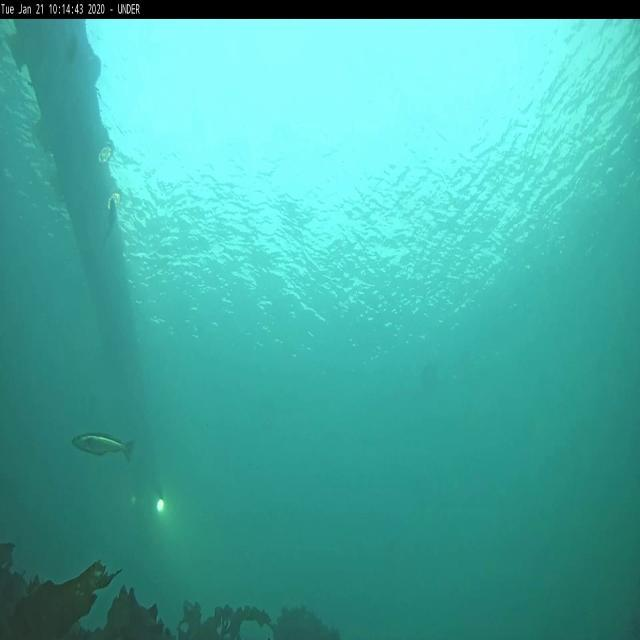fish: (72, 432, 132, 464), (102, 199, 116, 237)
